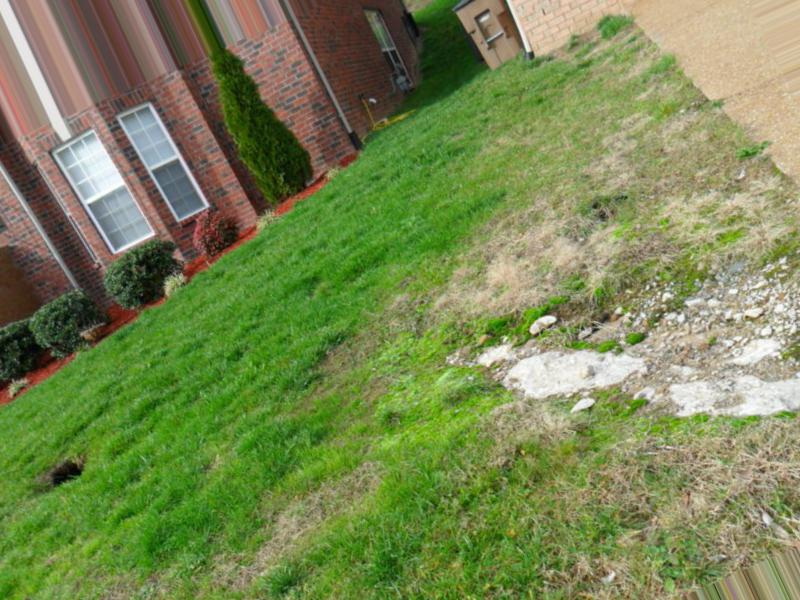patch: (540, 376, 769, 565), (508, 162, 695, 376), (673, 138, 800, 436), (620, 21, 768, 177)
